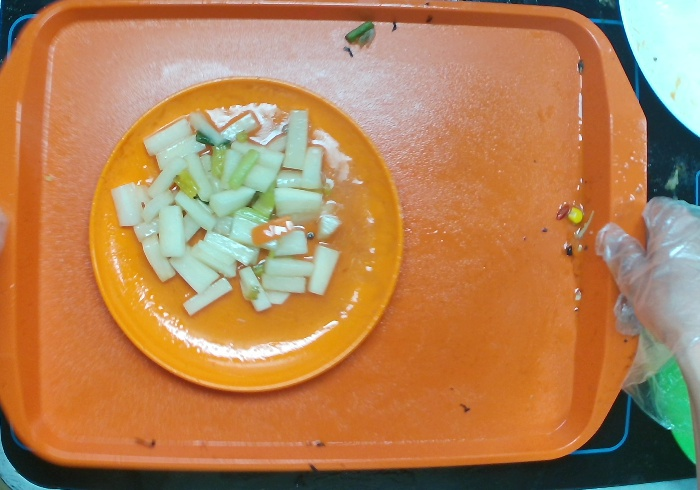HZYJPL-Ju_Huang_Yuan_Pan: (88, 74, 403, 397)
